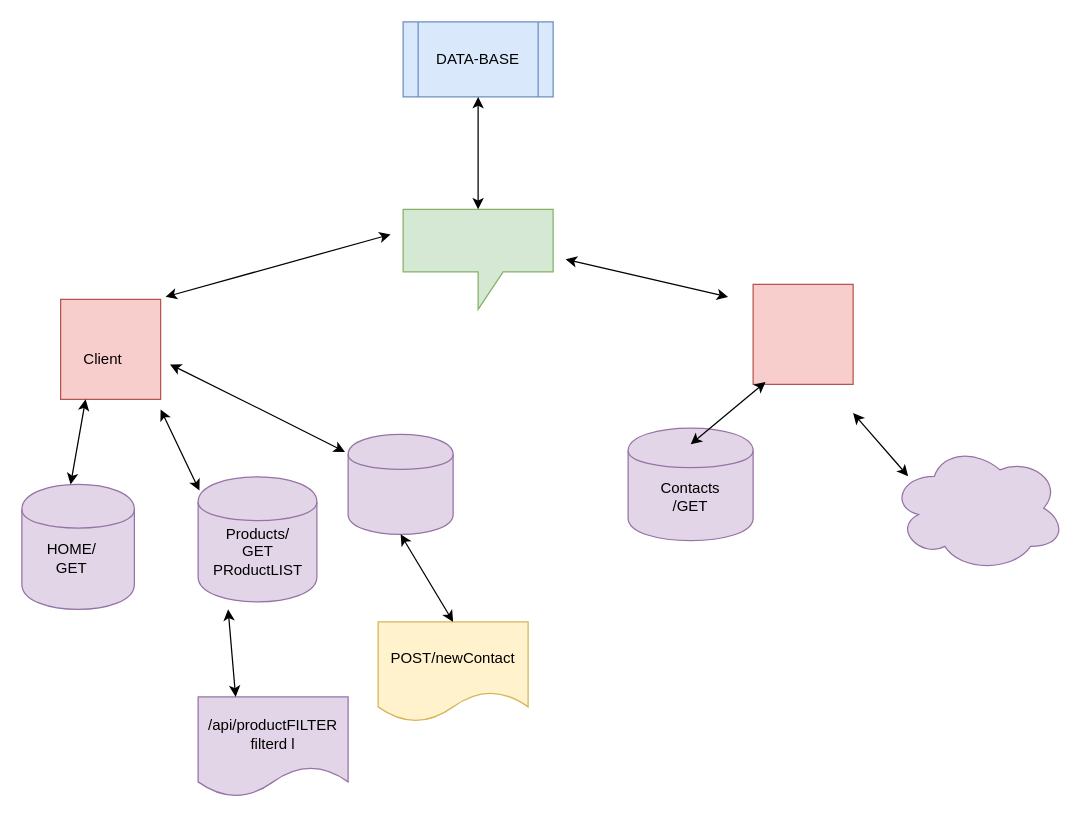
The diagram is 1088 pixels wide and 819 high, and some of its shapes have lost their labels. The box of each missing label's shape, as (x1, y1, x2, y2) in pixels:
ADMIN: (752, 283, 853, 384)
GET/Contacts: (347, 433, 453, 534)
Protduct/INVOICE: (889, 443, 1066, 572)
SERVER: (402, 208, 553, 309)
